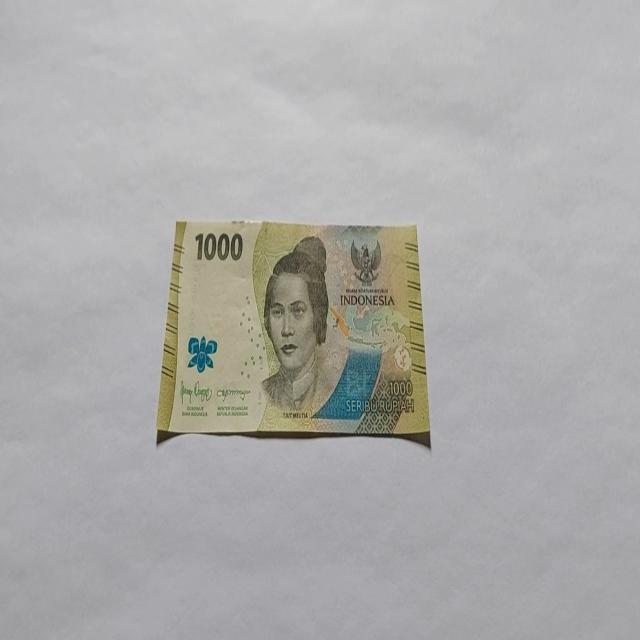seribu rupiah kertas: (155, 218, 431, 448)
